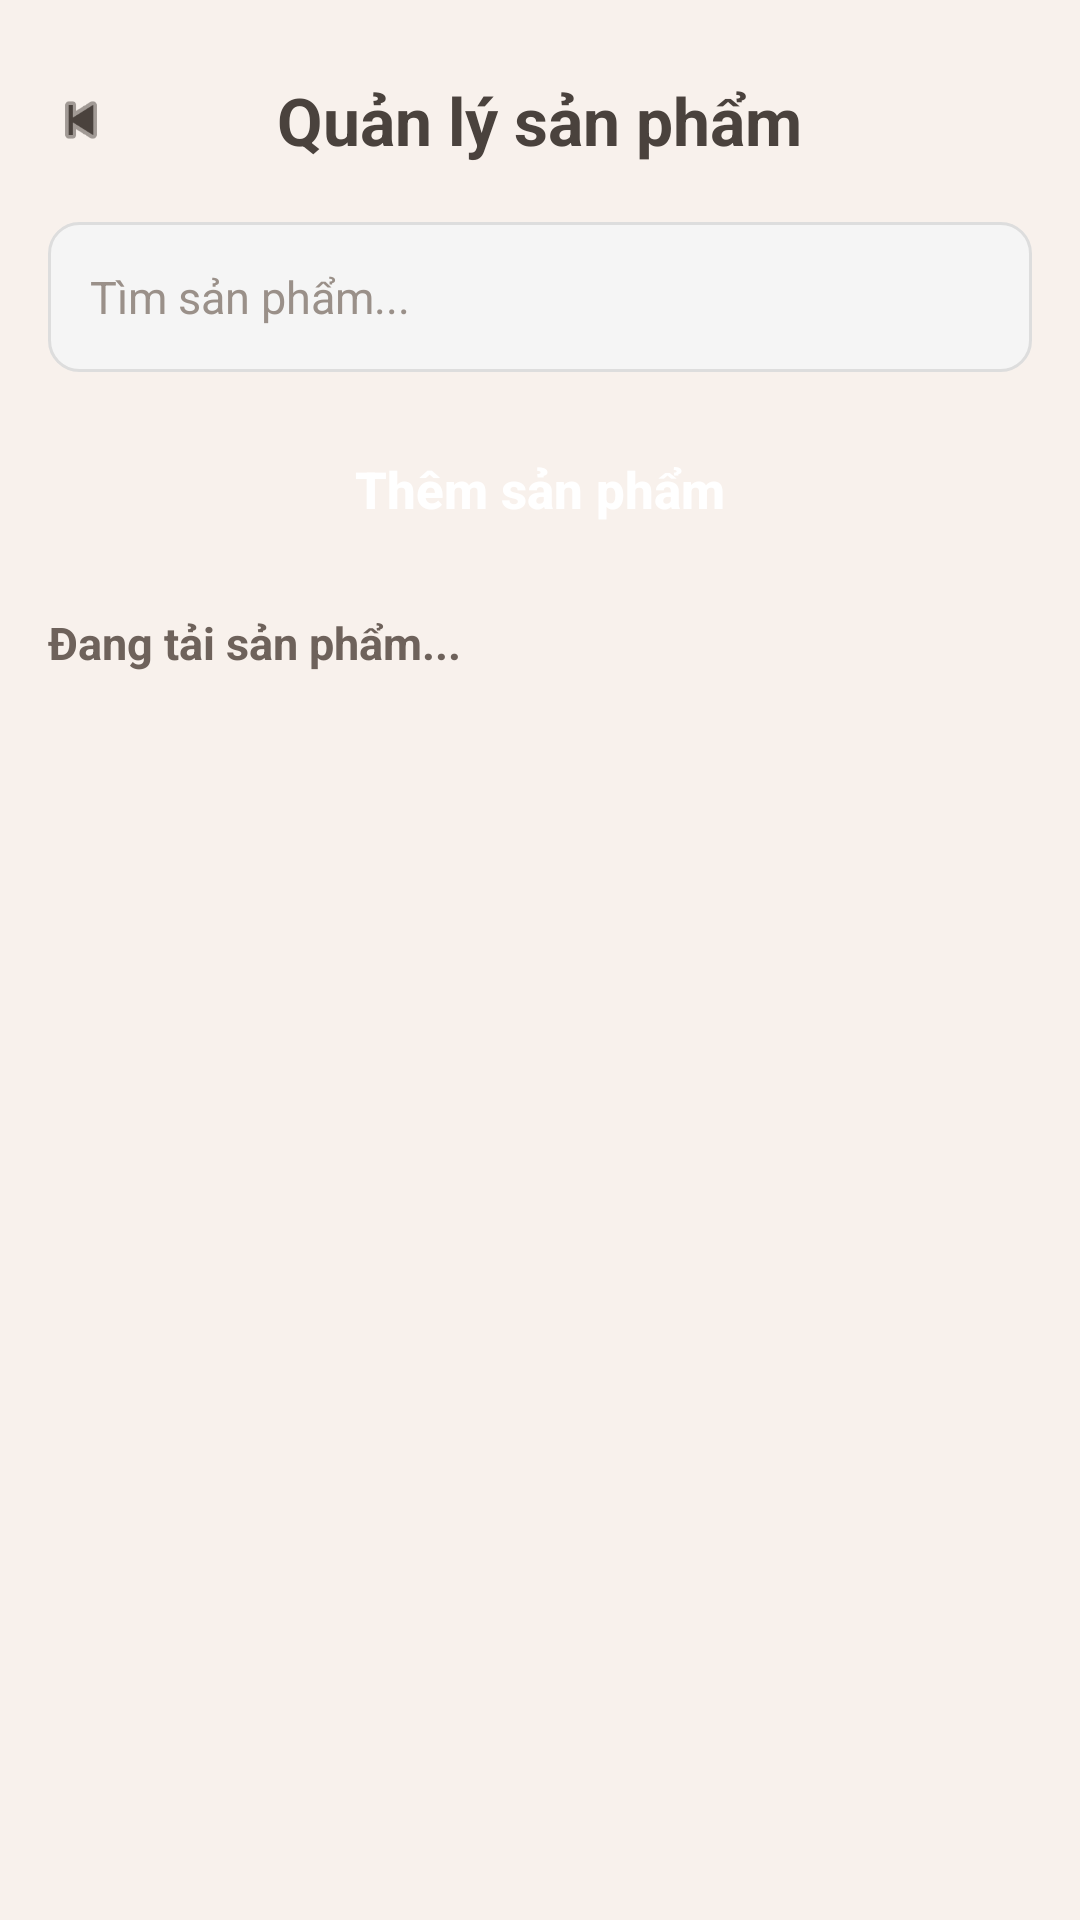

Locate icon controls on the screen. Image size 1080px x 1920px, boxes as (x1, y1, x2, y2).
Quay lại: (65, 101, 97, 139)
